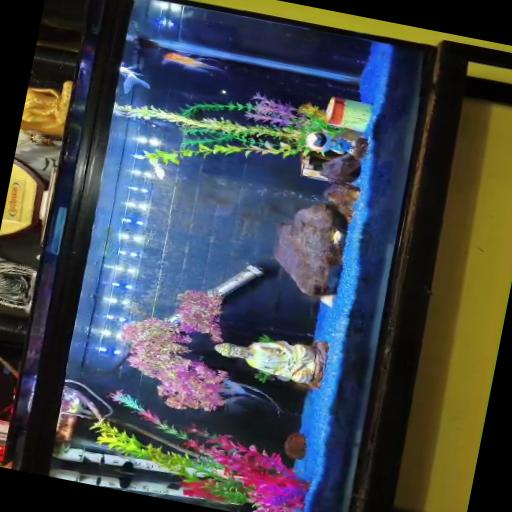Fish: (162, 52, 224, 72), (119, 63, 149, 93), (148, 158, 166, 179), (332, 230, 342, 244)
